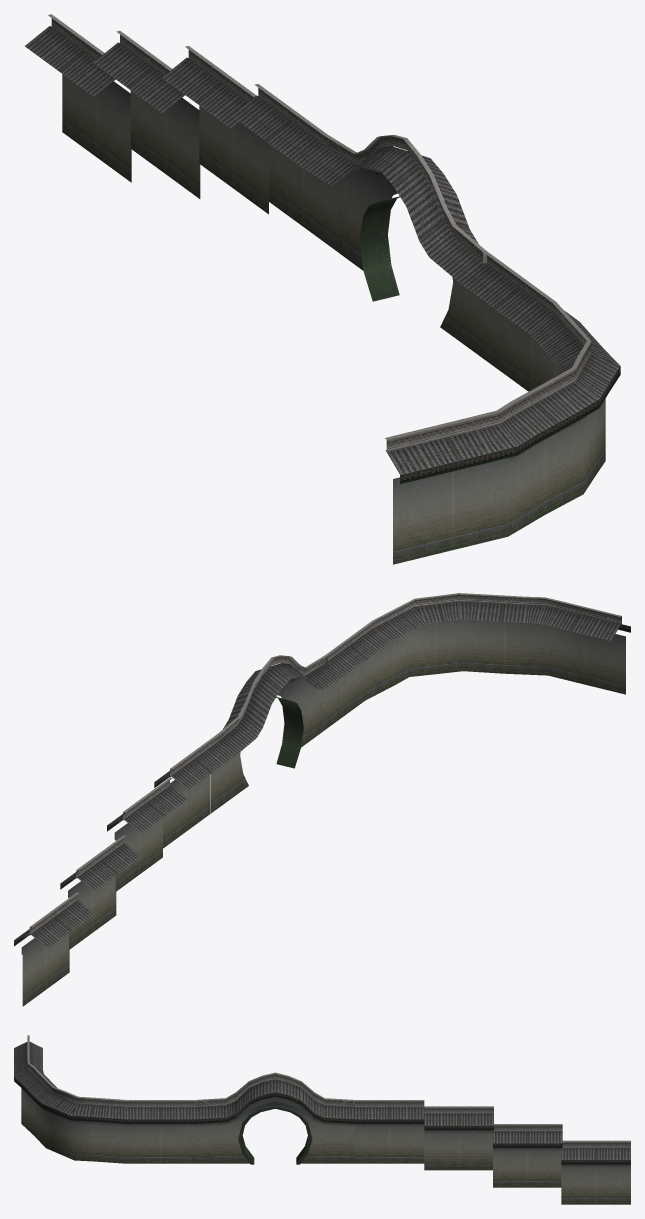
Rendered from yw_yanziwu_qiangmen03.FBX.
The picture shows the model from 3 angles, top to bottom: view 1: azimuth 30°, elevation 25°; view 2: azimuth 150°, elevation 25°; view 3: azimuth 270°, elevation 25°; orthographic projection. The views are drawn at different scales.
Parts seen in each view (by area): view 1: yw_yanziwu_qiangmen03; view 2: yw_yanziwu_qiangmen03; view 3: yw_yanziwu_qiangmen03.
Part boxes in pixels (x1,y1,x2,y2): yw_yanziwu_qiangmen03: (25,14,620,564); yw_yanziwu_qiangmen03: (14,593,630,1006); yw_yanziwu_qiangmen03: (14,1035,630,1204).
Bounding box in the file's own units: 591 × 498 × 2166.
